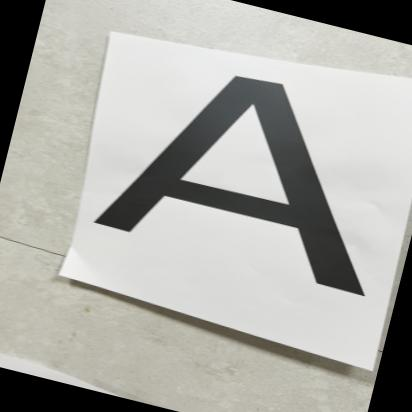seat: (69, 31, 412, 325)
